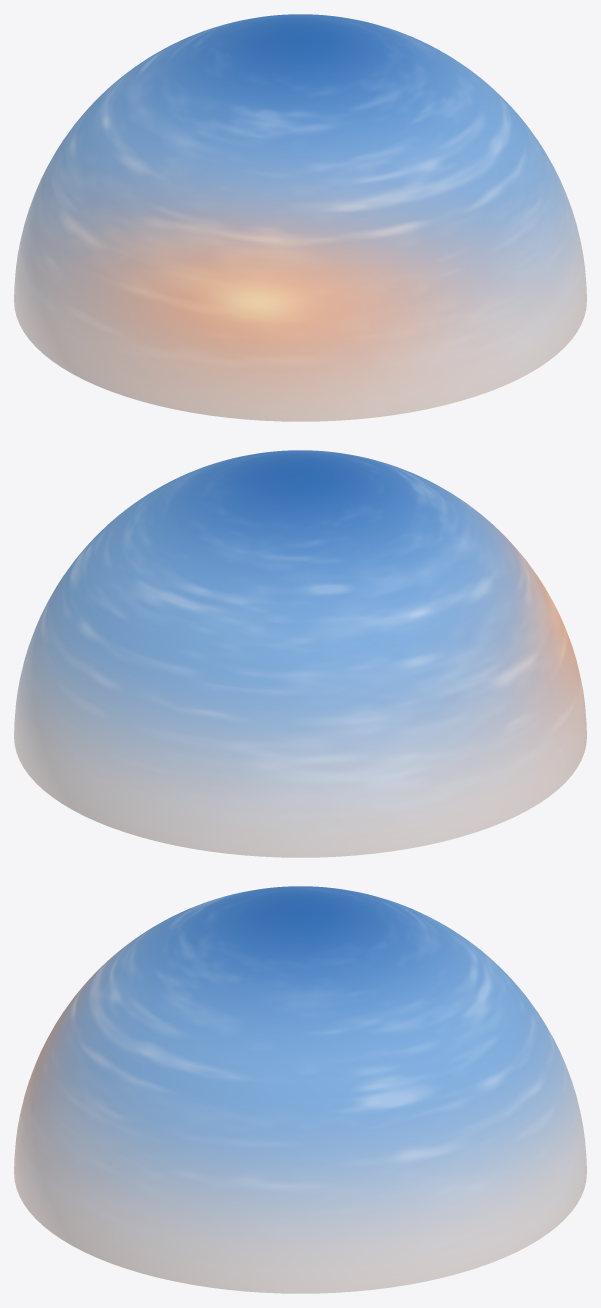
3 views of the same model, one above another, from view 1: azimuth 30°, elevation 25°; view 2: azimuth 150°, elevation 25°; view 3: azimuth 270°, elevation 25° (orthographic).
Visible parts, largest first — view 1: SkyDome_horizon_equator; view 2: SkyDome_horizon_equator; view 3: SkyDome_horizon_equator.
Boxes of the visible parts, x1=… form: SkyDome_horizon_equator: x1=14, y1=14, x2=586, y2=421; SkyDome_horizon_equator: x1=14, y1=450, x2=586, y2=857; SkyDome_horizon_equator: x1=14, y1=886, x2=586, y2=1293.
Size of the model in its own units: 70 by 35 by 70.
Materials: 1 (1 with a texture image).
